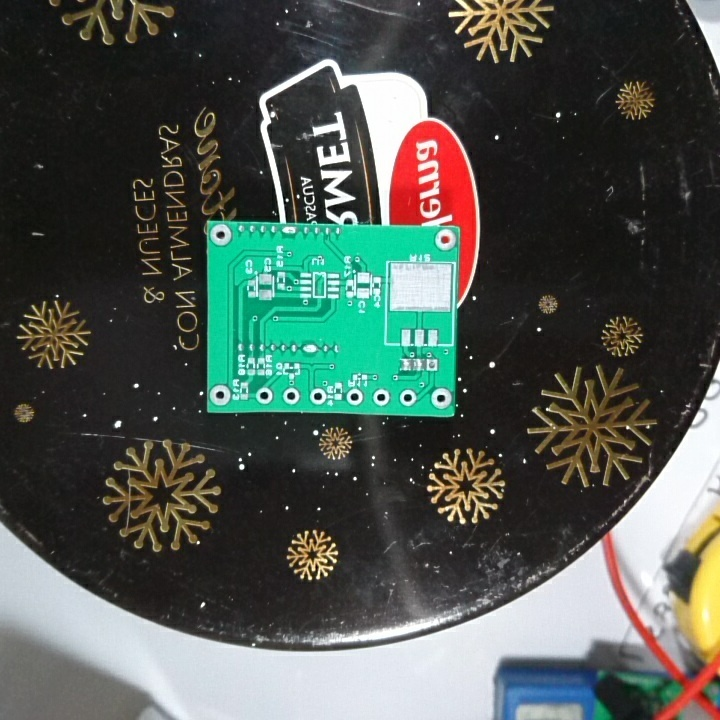F: (209, 222, 235, 249), (207, 383, 233, 409), (429, 385, 453, 411), (434, 226, 457, 252), (281, 384, 302, 407), (396, 386, 416, 407), (255, 386, 276, 406), (424, 355, 441, 378), (307, 386, 325, 404), (345, 387, 364, 404), (370, 386, 389, 402)
P: (301, 339, 319, 360), (281, 224, 300, 240)
